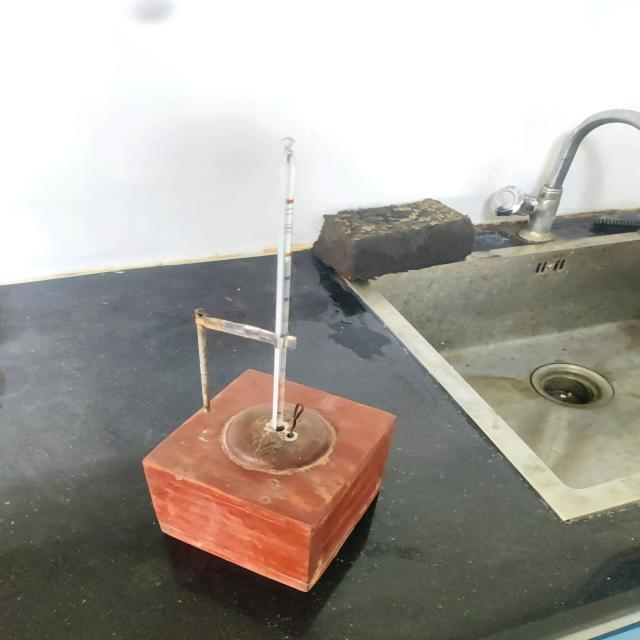Calorimeter: (134, 126, 399, 616)
